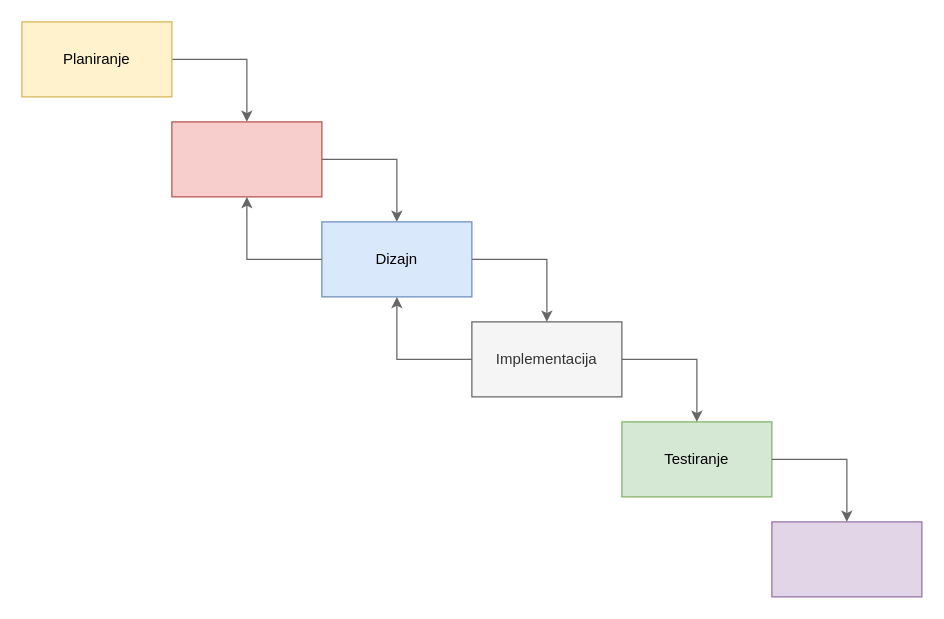
This 944x619 diagram has some shape labels left out. Here are the shapes that lost their labels. From the top down, the centre of each, then its label:
At (x=246, y=159): "Analiza".
At (x=846, y=559): "Održavanje".
